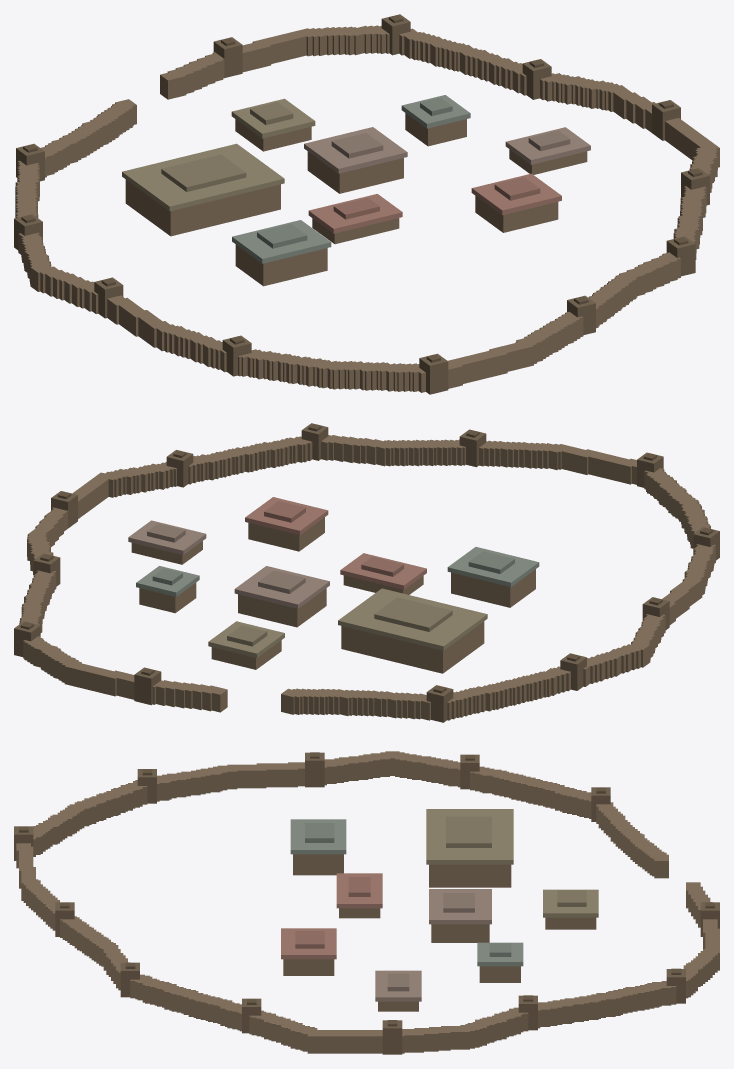
File: ciudad_poblado_orco_poi_949_534_01.glb
3 renders of one model, top to bottom at view 1: azimuth 30°, elevation 25°; view 2: azimuth 150°, elevation 25°; view 3: azimuth 270°, elevation 25°, orthographic. The views are drawn at different scales.
Visible parts, largest first — view 1: ciudad_poblado_orco_poi_949_534; view 2: ciudad_poblado_orco_poi_949_534; view 3: ciudad_poblado_orco_poi_949_534.
Part boxes in pixels (box(x1,y1,x2,y2)): ciudad_poblado_orco_poi_949_534: box(14, 14, 719, 394); ciudad_poblado_orco_poi_949_534: box(14, 423, 719, 722); ciudad_poblado_orco_poi_949_534: box(14, 751, 719, 1054).
Bounding box in the file's own units: 69.75 × 3.75 × 72.75.
